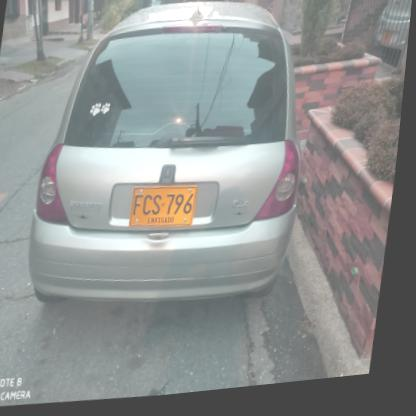placa: (128, 183, 205, 240)
